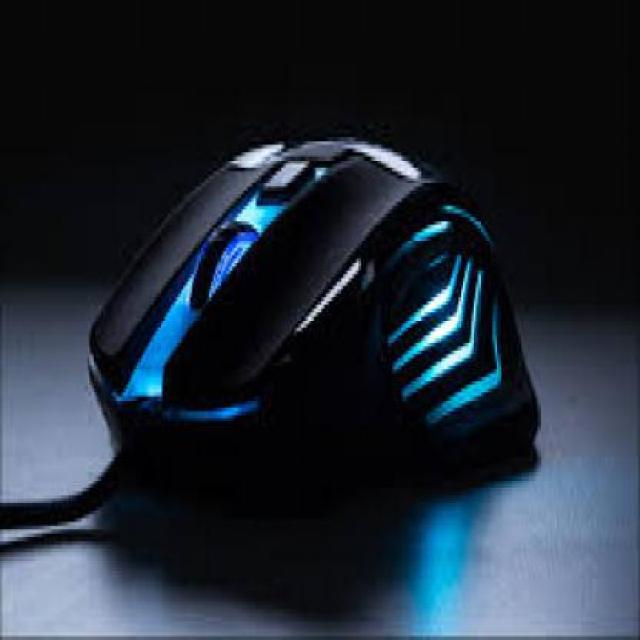mause: (62, 106, 583, 599)
